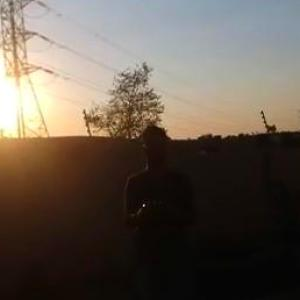follow: (119, 122, 201, 299)
